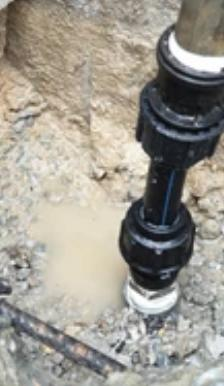water accumulation: (24, 196, 140, 311)
